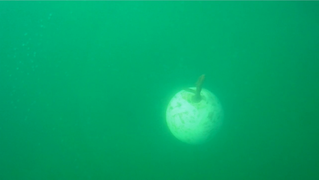buoy: (165, 86, 225, 146)
